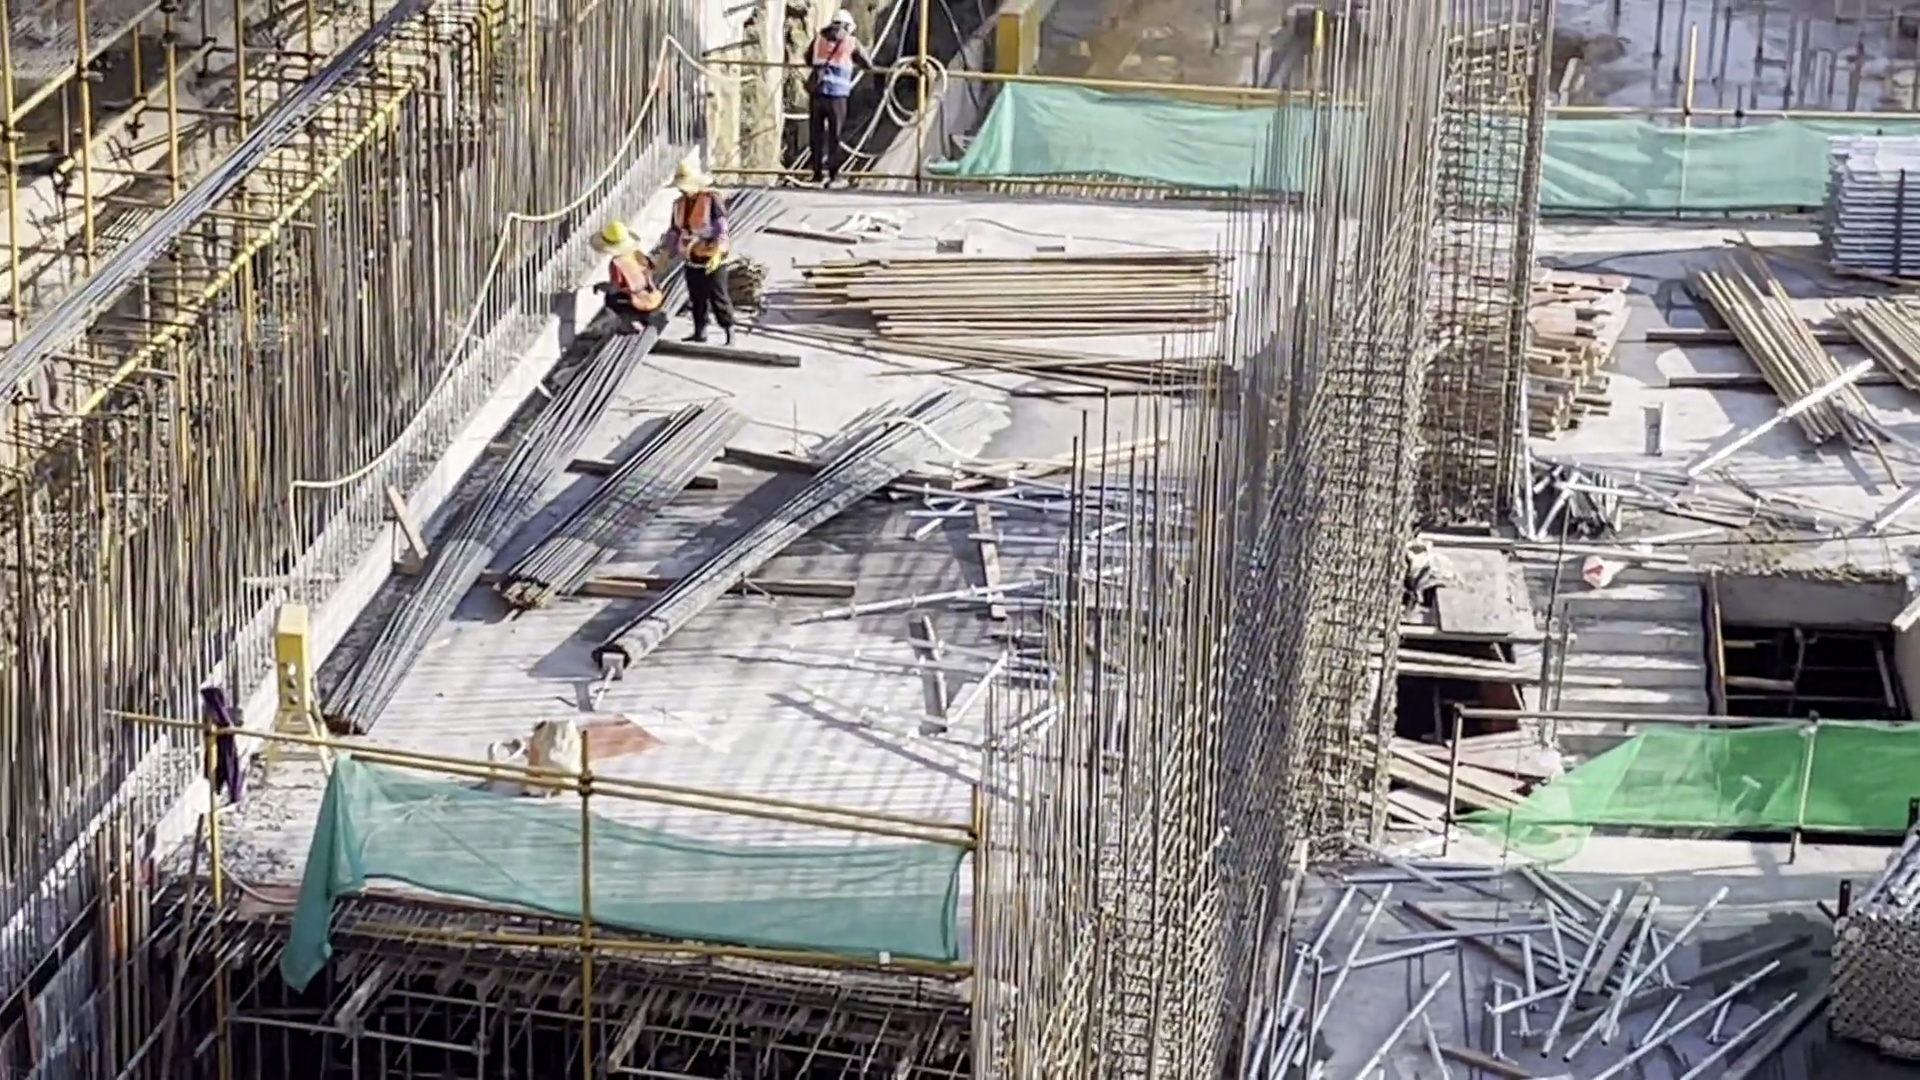ebox: (264, 614, 320, 756)
helmet: (596, 218, 636, 254), (664, 166, 706, 191), (828, 9, 857, 26)
person: (659, 165, 754, 356), (793, 5, 869, 189), (573, 215, 666, 346)
rebar: (336, 364, 620, 719), (638, 438, 946, 664), (537, 414, 736, 591)
scaffold: (1820, 863, 1920, 1023), (1829, 172, 1920, 260)
vest: (677, 204, 728, 271), (803, 35, 857, 96), (603, 251, 653, 309)
wood: (1455, 353, 1601, 431)
